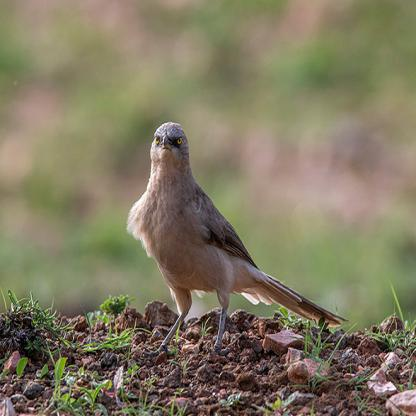Burung: (125, 121, 348, 360)
